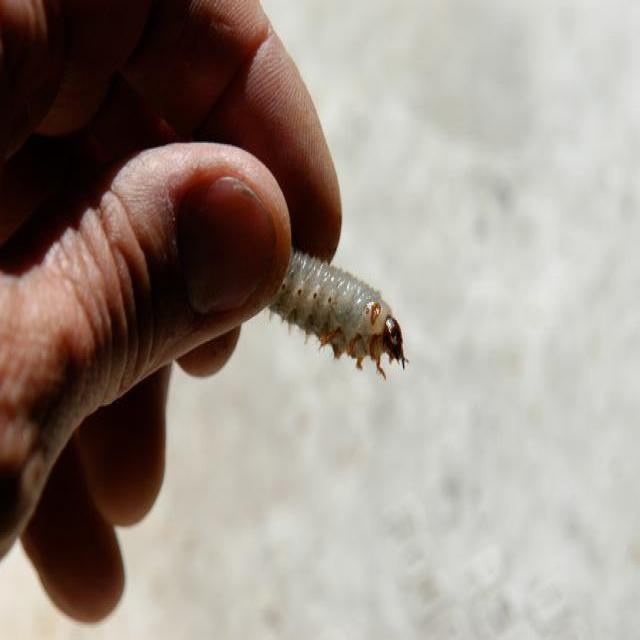Grub-Adult-: (250, 228, 414, 373)
